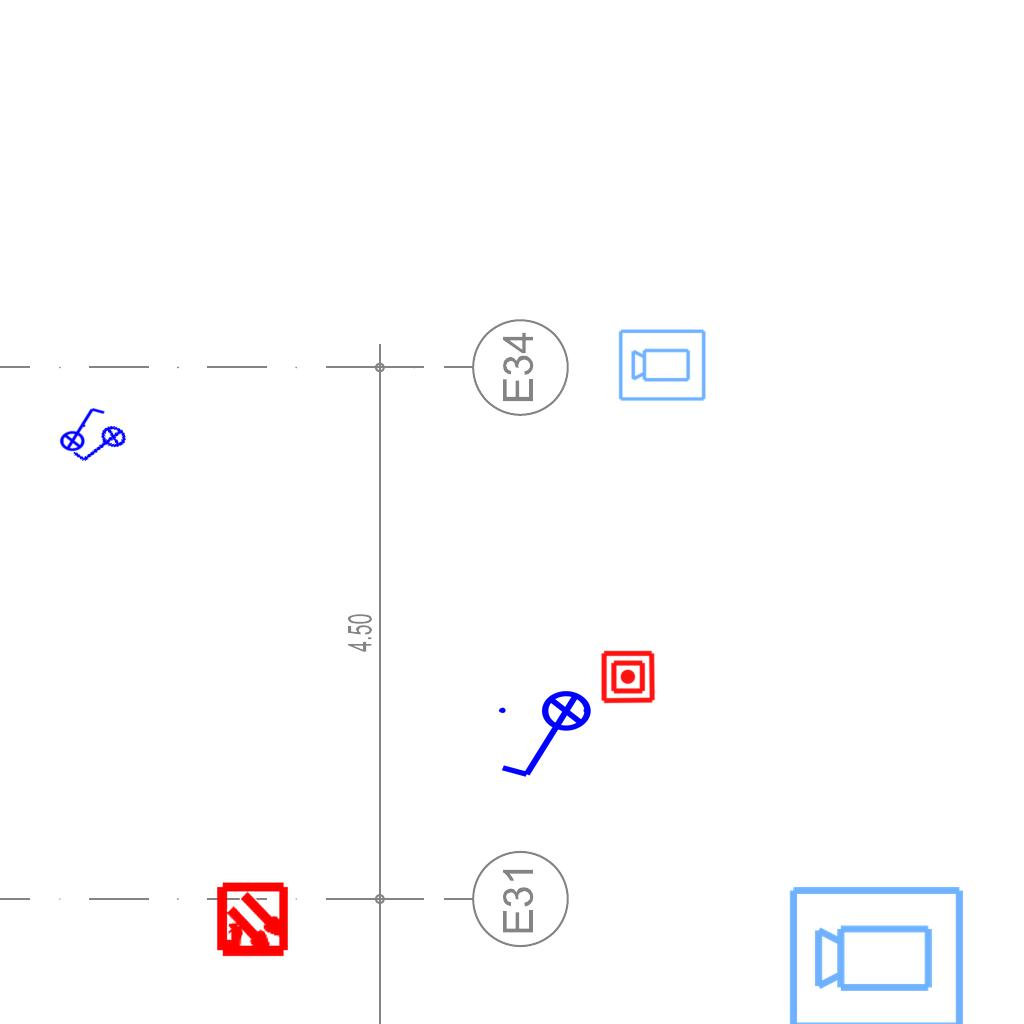Ausschalter_beleuchtet: (493, 689, 605, 785), (66, 413, 136, 479), (53, 404, 109, 452)
KFO_Kamera_mit_Festobjektiv: (786, 880, 968, 1024), (617, 326, 708, 403)
NAM-Nichtautomatischer_Melder: (600, 649, 656, 705)
OT_Multisensormelder_(Kombination_RMO_WMD): (196, 865, 309, 978)
